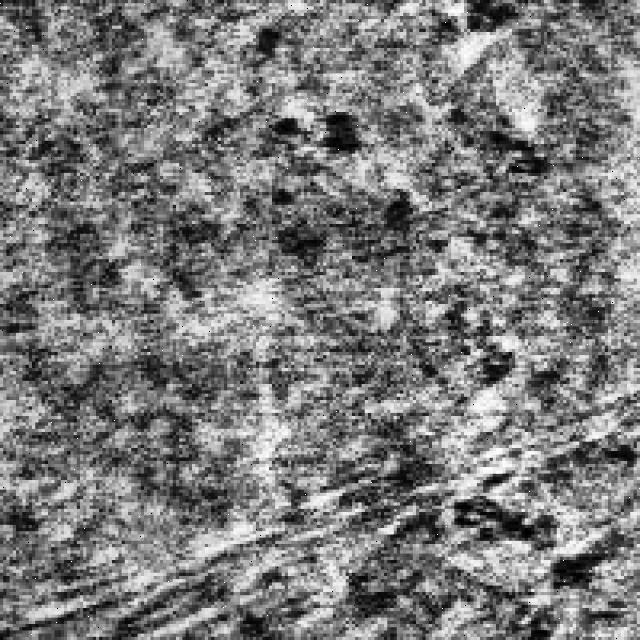Crazing: (355, 141, 570, 541), (444, 432, 630, 630)
